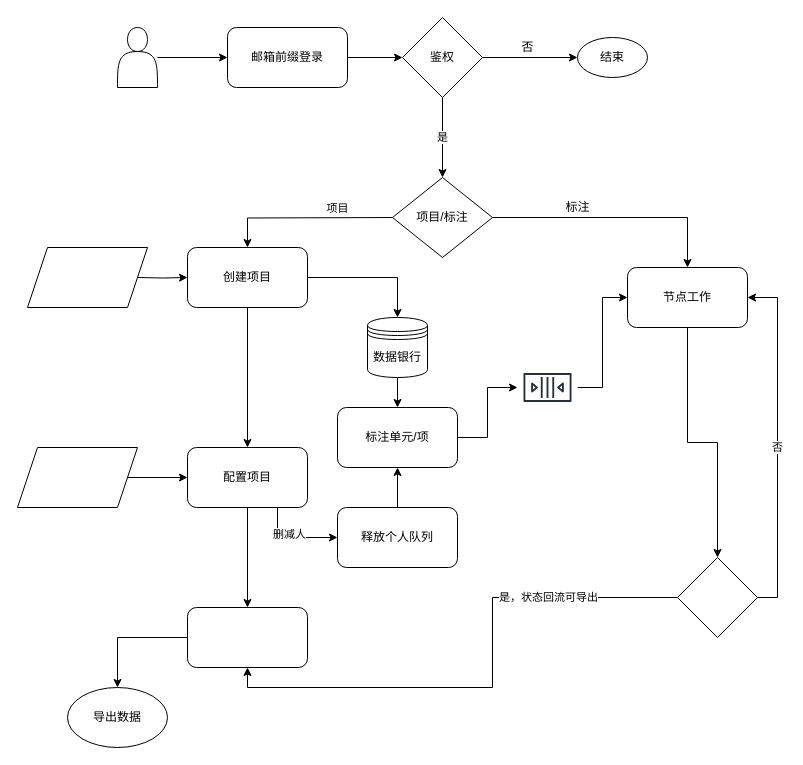
Some shapes in this 803 by 765 pixel diagram are drawn without their labels. Each missing label, with the centre of its shape:
"个人队列" goes at (x=547, y=387).
"完成" goes at (x=717, y=597).
"数据链接" goes at (x=87, y=277).
"流程、操作员" goes at (x=77, y=477).
"项目列表" goes at (x=247, y=637).
